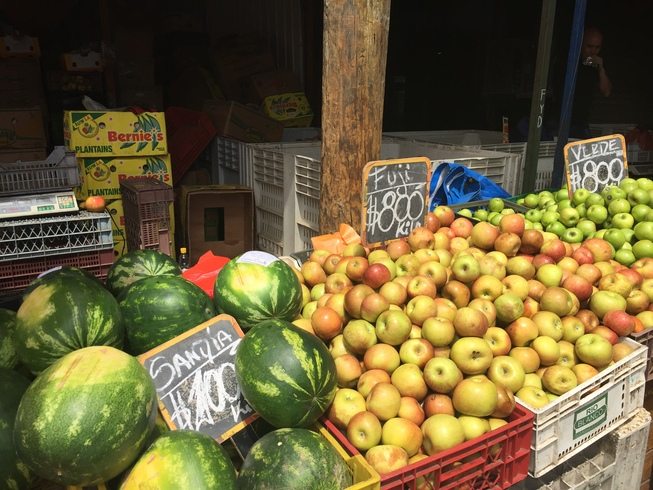precio: (133, 303, 291, 458), (357, 155, 442, 264), (557, 127, 639, 211)
